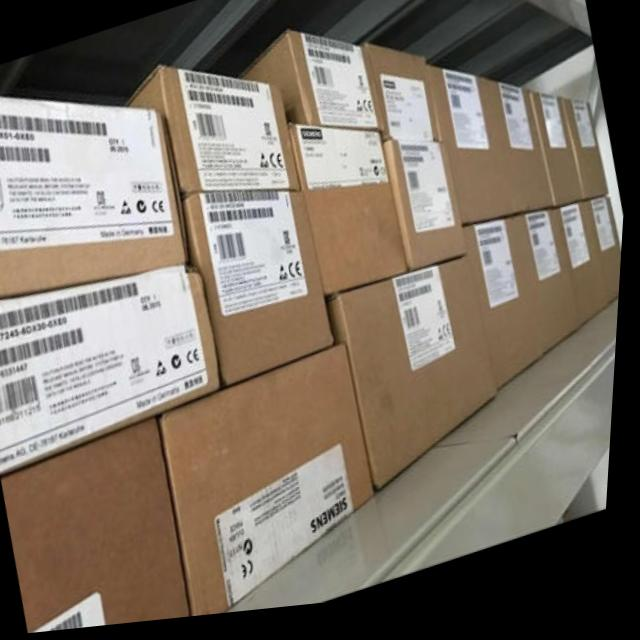box: (161, 351, 381, 621), (0, 266, 226, 476), (7, 420, 198, 635), (329, 266, 503, 500), (0, 97, 191, 297), (184, 199, 338, 390), (124, 68, 303, 201), (290, 128, 411, 303), (238, 36, 383, 140), (466, 228, 547, 400), (428, 74, 515, 234), (384, 147, 471, 280), (515, 221, 582, 366), (488, 90, 556, 225), (364, 51, 441, 152), (557, 215, 607, 342), (531, 103, 586, 218), (565, 110, 611, 212), (586, 210, 625, 322)
